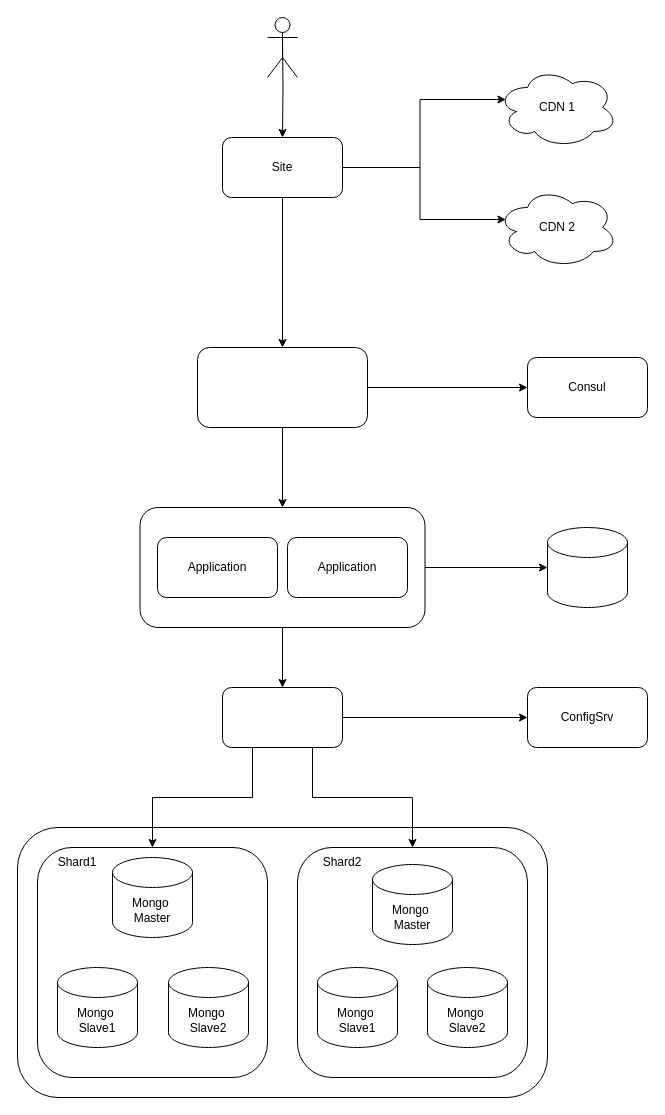
Image size: 665x1115. Some labels were removed from this diagram. The shapes that lost their labels are listed below. From the top down, each one's centre as x and y in pixels, then its label:
the point at 282,47: Web APP/ Mobile APP
the point at 282,387: API Gateway / Load Balancer
the point at 587,567: Redis
the point at 282,717: Mongos
